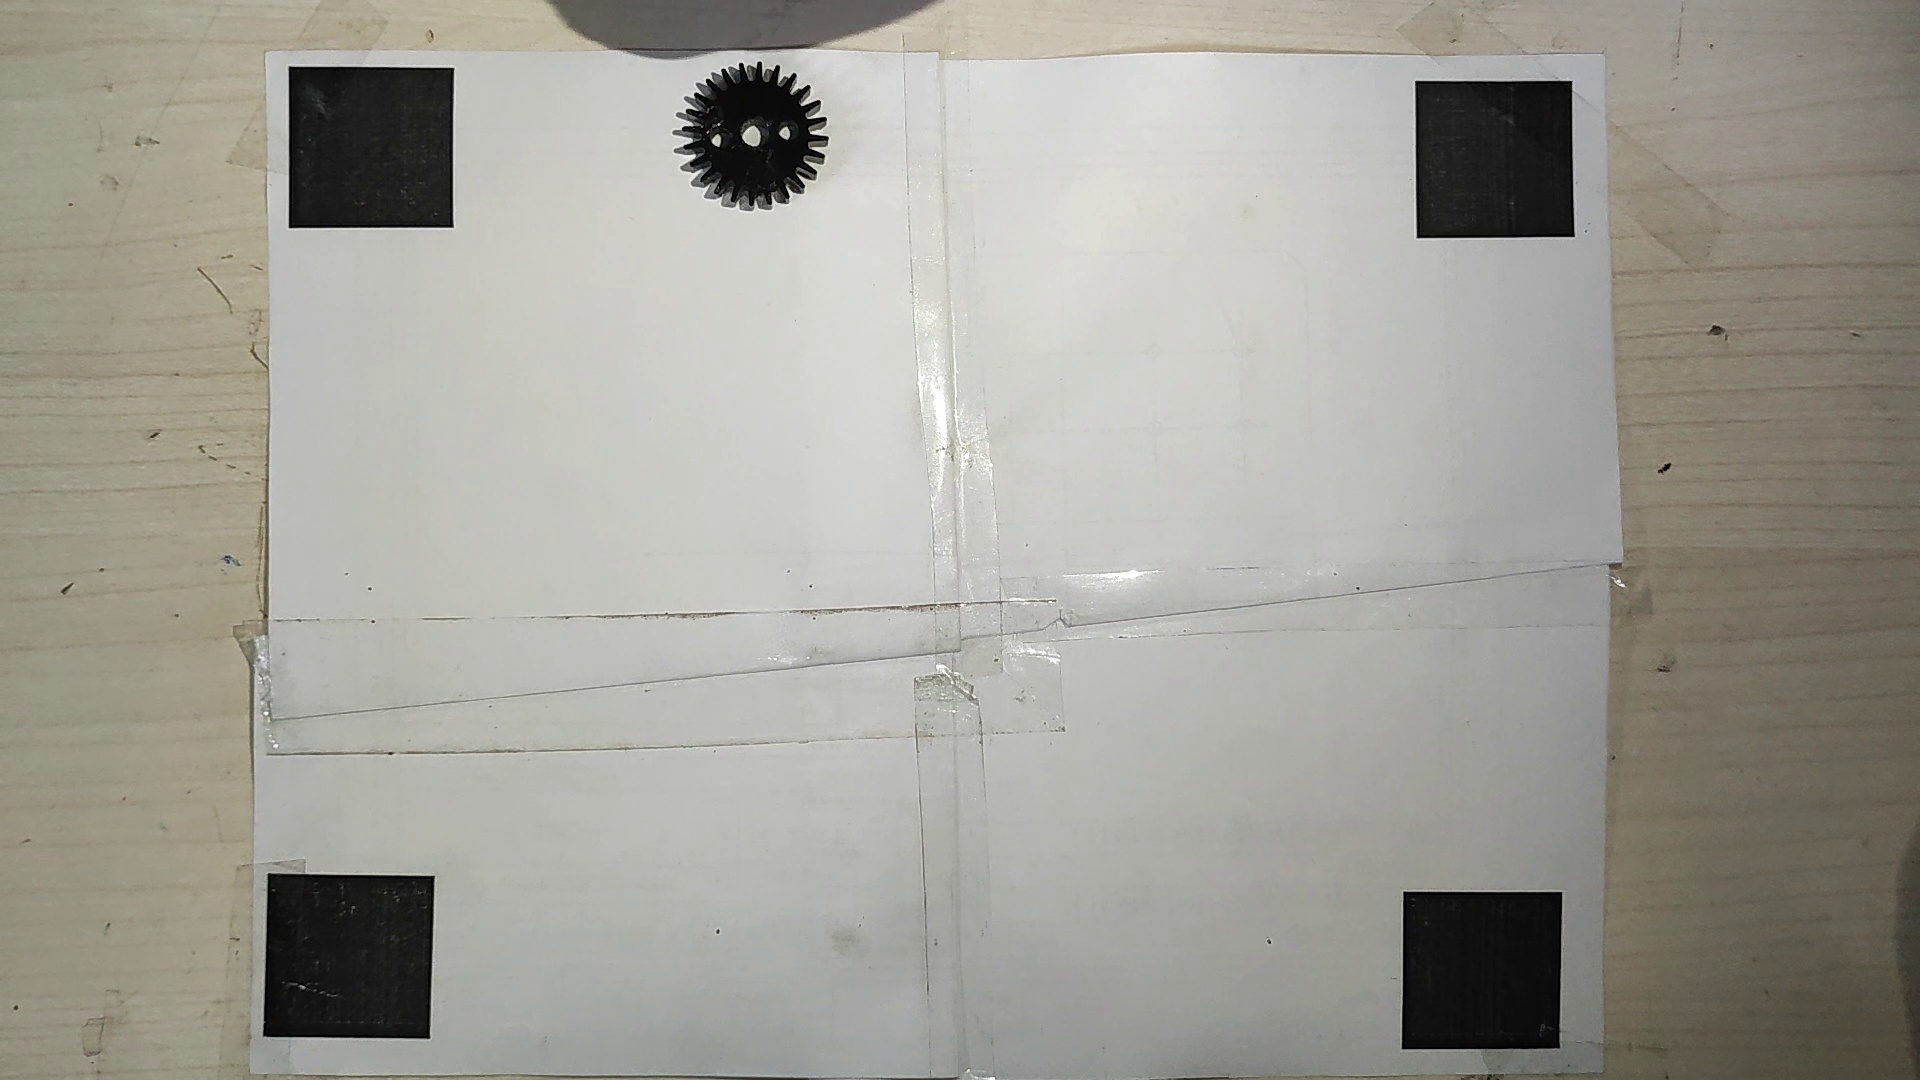Gear: (669, 55, 836, 211)
